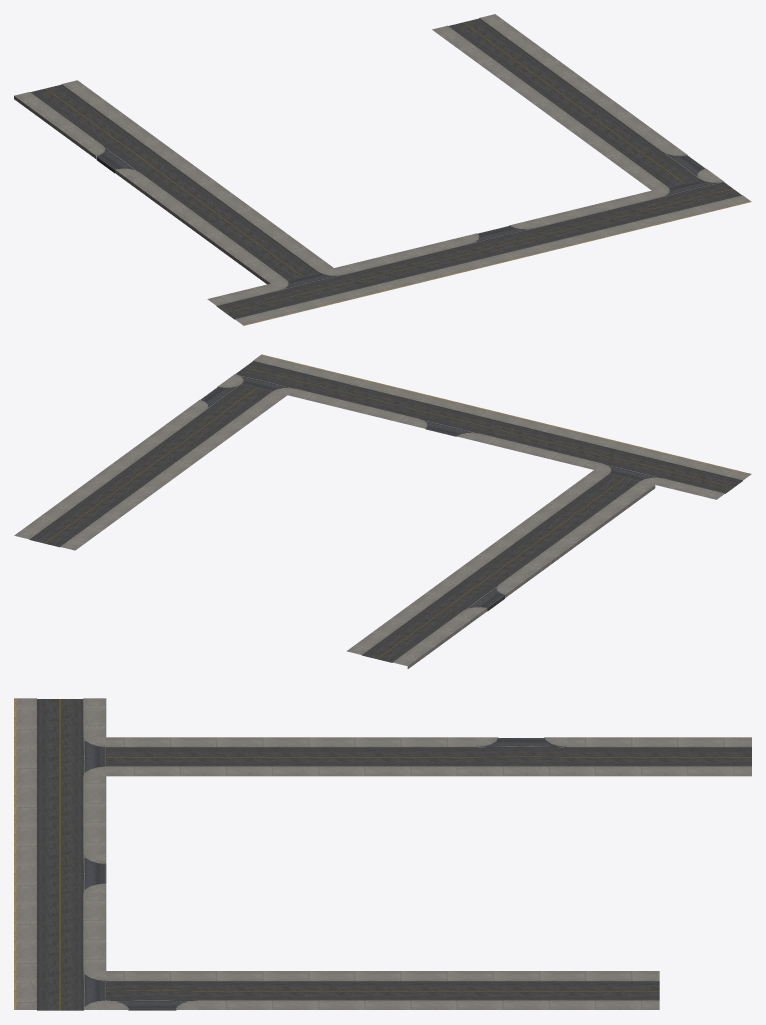
The model's file is vegaseroad011.obj.
The picture shows the model from 3 angles, top to bottom: view 1: azimuth 30°, elevation 25°; view 2: azimuth 150°, elevation 25°; view 3: azimuth 270°, elevation 25°; orthographic projection. The views are drawn at different scales.
Visible parts, largest first — view 1: VegasEroad011; view 2: VegasEroad011; view 3: VegasEroad011.
Part boxes in pixels (<box>): VegasEroad011: <box>14,14,751,325</box>; VegasEroad011: <box>14,354,751,668</box>; VegasEroad011: <box>14,698,751,1010</box>.
Bounding box in the file's own units: 160 × 1.27 × 160.
4 materials, 4 textured.
